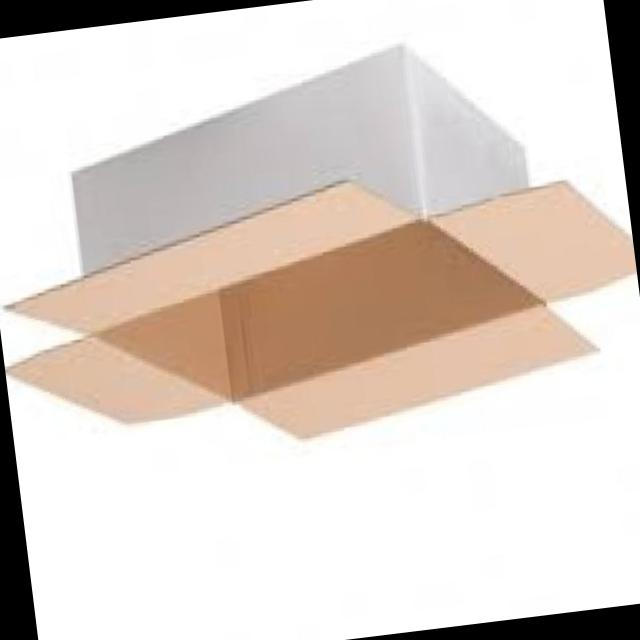cardboard paper: (5, 45, 636, 436)
